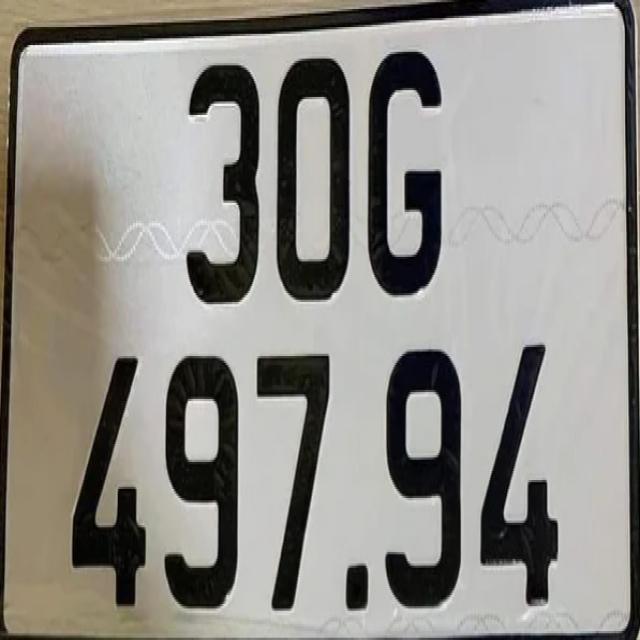0: (271, 50, 356, 308)
3: (182, 54, 262, 313)
4: (62, 333, 153, 619), (476, 336, 566, 617)
7: (253, 332, 333, 625)
9: (380, 326, 466, 614), (160, 337, 243, 625)
G: (362, 42, 450, 309)
